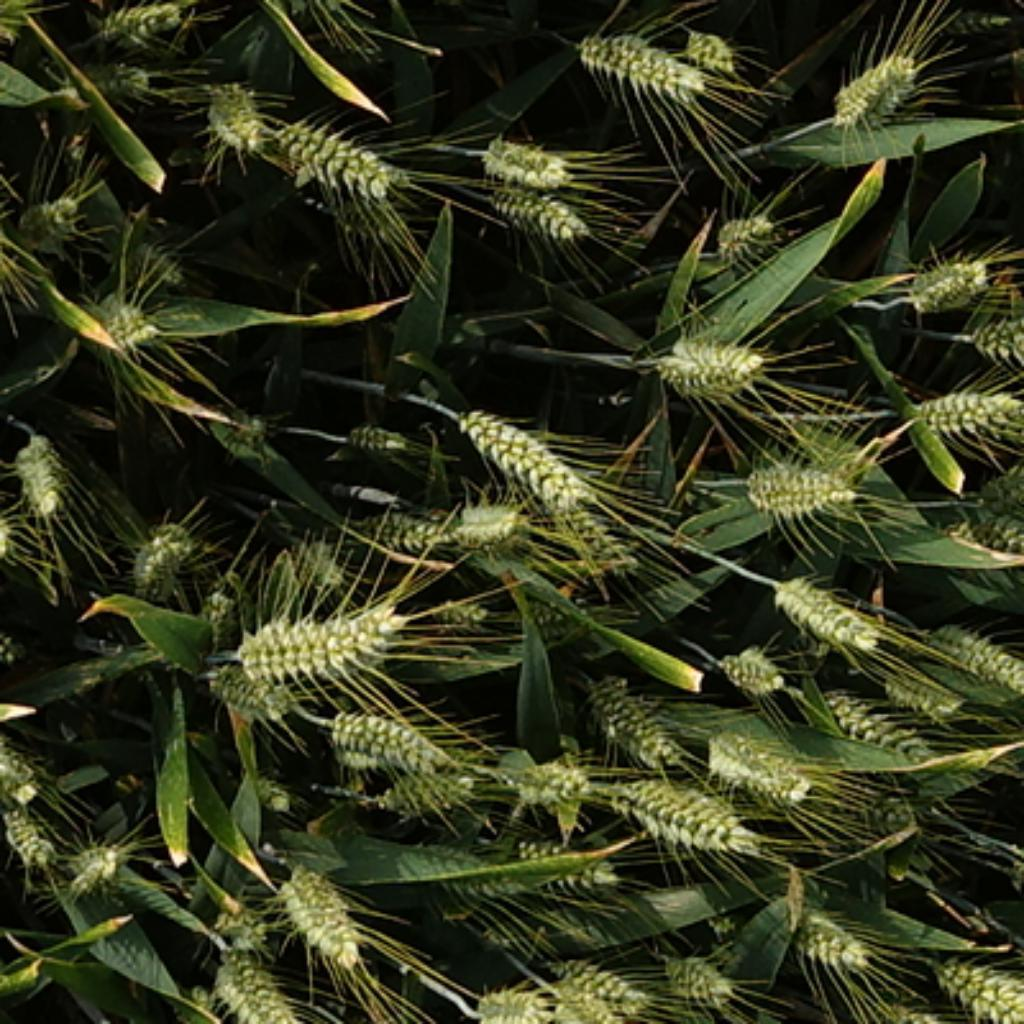0-0: (448, 391, 599, 512), (261, 94, 407, 215), (235, 596, 409, 683), (614, 770, 768, 865), (846, 780, 975, 876), (570, 15, 704, 99), (732, 437, 865, 517), (576, 663, 683, 762), (327, 701, 458, 780), (273, 857, 366, 967), (768, 560, 883, 647), (645, 317, 770, 396), (701, 714, 814, 801), (816, 45, 923, 135), (913, 611, 1021, 698), (816, 678, 924, 757), (768, 888, 872, 970), (399, 834, 532, 898), (207, 939, 307, 1024), (471, 174, 591, 240), (545, 944, 650, 1016), (512, 832, 634, 893), (926, 949, 1024, 1021), (555, 514, 647, 588), (906, 376, 1021, 435), (373, 760, 481, 819), (122, 509, 199, 591), (901, 243, 993, 309), (202, 652, 296, 716), (476, 122, 573, 184), (501, 744, 593, 806), (194, 69, 266, 148), (76, 279, 158, 348), (5, 179, 84, 248), (56, 43, 148, 102), (12, 427, 74, 514), (442, 499, 532, 558), (709, 197, 791, 261), (875, 655, 967, 711), (348, 506, 458, 552), (199, 394, 276, 458), (668, 947, 744, 1011), (954, 504, 1024, 573), (0, 793, 61, 872), (199, 573, 248, 665), (64, 832, 135, 893), (89, 0, 189, 43), (465, 977, 555, 1024), (711, 634, 783, 691), (291, 532, 355, 596), (539, 979, 629, 1024), (506, 599, 599, 642), (344, 408, 424, 457), (0, 719, 43, 808), (217, 893, 279, 952), (965, 309, 1024, 371), (122, 235, 184, 286), (1, 499, 45, 570), (681, 24, 742, 75), (422, 593, 501, 632), (970, 460, 1024, 512), (0, 156, 5, 248), (412, 0, 499, 2)
